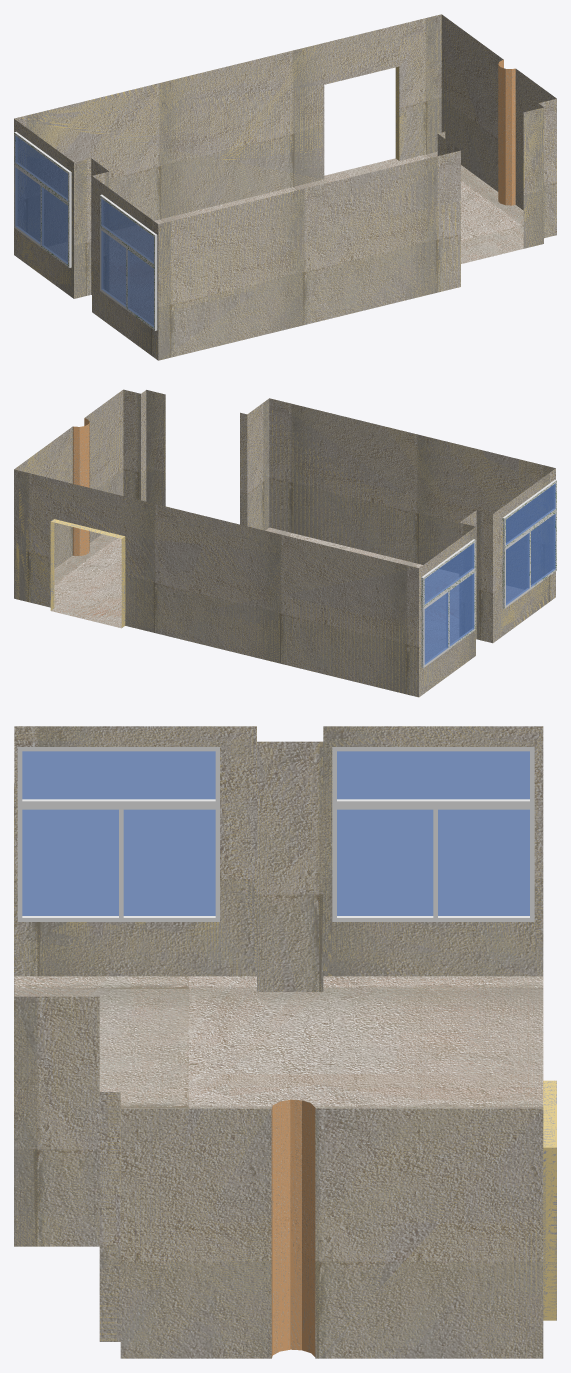
Rendered from LAB037.obj.
3 views of the same model, one above another, from view 1: azimuth 30°, elevation 25°; view 2: azimuth 150°, elevation 25°; view 3: azimuth 270°, elevation 25° (orthographic). The views are drawn at different scales.
Visible parts, largest first — view 1: Mesh13 LAB037 Model, Mesh7 ventana1_2 LAB037 Model, Mesh1 ventana1_1 LAB037 Model; view 2: Mesh13 LAB037 Model, Mesh1 ventana1_1 LAB037 Model, Mesh7 ventana1_2 LAB037 Model; view 3: Mesh13 LAB037 Model, Mesh1 ventana1_1 LAB037 Model, Mesh7 ventana1_2 LAB037 Model.
Part boxes in pixels (x1,y1,x2,y2): Mesh13 LAB037 Model: [14, 14, 556, 360]; Mesh7 ventana1_2 LAB037 Model: [100, 194, 157, 330]; Mesh1 ventana1_1 LAB037 Model: [14, 131, 71, 267]; Mesh13 LAB037 Model: [14, 389, 555, 697]; Mesh1 ventana1_1 LAB037 Model: [421, 539, 475, 668]; Mesh7 ventana1_2 LAB037 Model: [502, 479, 556, 608]; Mesh13 LAB037 Model: [14, 726, 556, 1358]; Mesh1 ventana1_1 LAB037 Model: [332, 747, 534, 921]; Mesh7 ventana1_2 LAB037 Model: [17, 747, 219, 921].
Size of the model in its own units: 9.89 by 3 by 5.9.
Materials: 8 (2 with a texture image).
